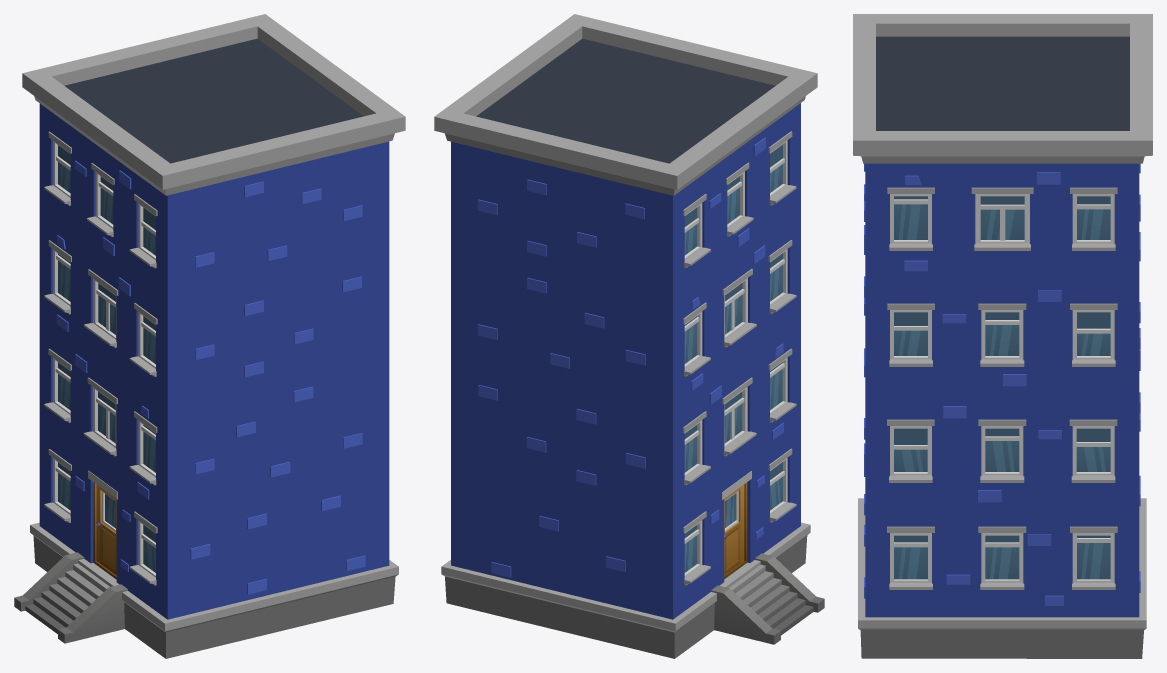
The model's file is Building_2_2_C.fbx.
The picture shows the model from 3 angles, left to right: view 1: azimuth 30°, elevation 25°; view 2: azimuth 150°, elevation 25°; view 3: azimuth 270°, elevation 25°; orthographic projection. The views are drawn at different scales.
Visible parts, largest first — view 1: Building_2_2_C; view 2: Building_2_2_C; view 3: Building_2_2_C.
Part boxes in pixels (x1=…): Building_2_2_C: x1=14, y1=14, x2=405, y2=658; Building_2_2_C: x1=434, y1=14, x2=824, y2=658; Building_2_2_C: x1=853, y1=14, x2=1152, y2=658.
Size of the model in its own units: 754 by 1191 by 620.
